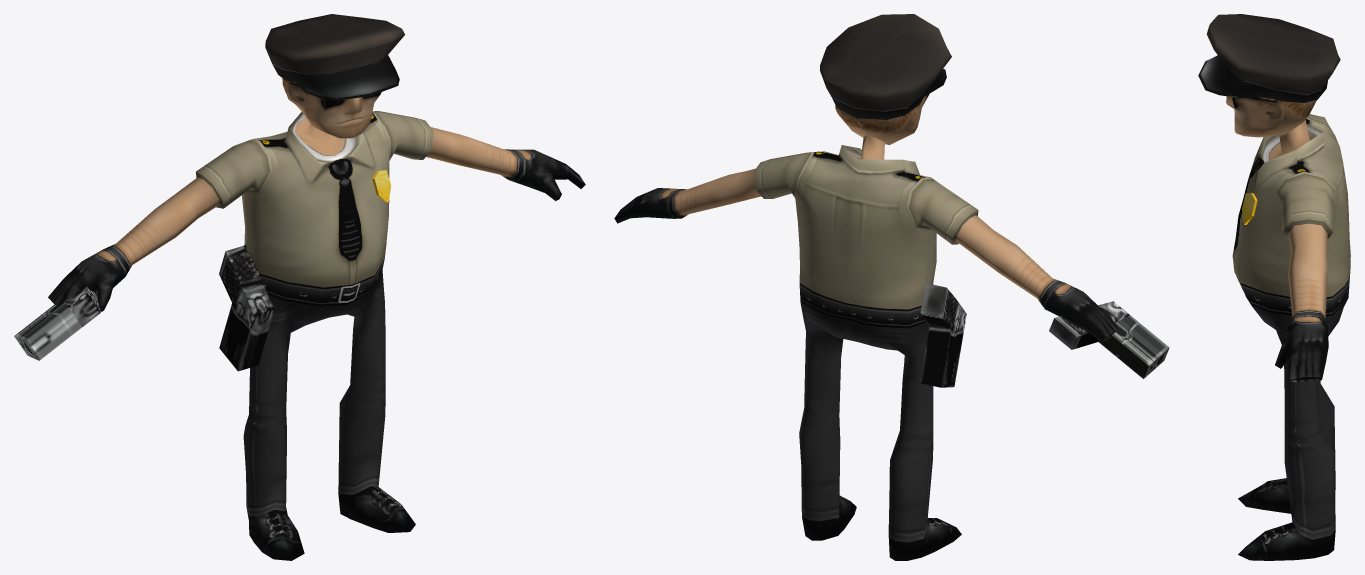
The model's file is Guard.fbx.
3 views of the same model, side by side, from view 1: azimuth 30°, elevation 25°; view 2: azimuth 150°, elevation 25°; view 3: azimuth 270°, elevation 25° (orthographic). The views are drawn at different scales.
Parts seen in each view (by area): view 1: Guard_Body, Guard_Hat, Guard_GunHolster, Guard_Gun, Guard_Head; view 2: Guard_Body, Guard_Hat, Guard_GunHolster, Guard_Gun, Guard_Head; view 3: Guard_Body, Guard_Hat, Guard_Head, Guard_Badge.
Boxes of the visible parts, x1,y1,x2,y2 form: Guard_Body: (48,111,585,560); Guard_Hat: (265,14,404,100); Guard_GunHolster: (219,245,274,371); Guard_Gun: (14,286,100,360); Guard_Head: (282,78,381,138); Guard_Body: (614,135,1118,560); Guard_Hat: (820,14,951,119); Guard_GunHolster: (920,283,966,387); Guard_Gun: (1049,301,1169,378); Guard_Head: (835,94,929,144); Guard_Body: (1232,114,1350,560); Guard_Hat: (1198,14,1340,102); Guard_Head: (1226,96,1316,137); Guard_Badge: (1242,193,1257,224).
Bounding box in the file's own units: 2.53 × 2.22 × 0.6078.
2 materials, 2 textured.
